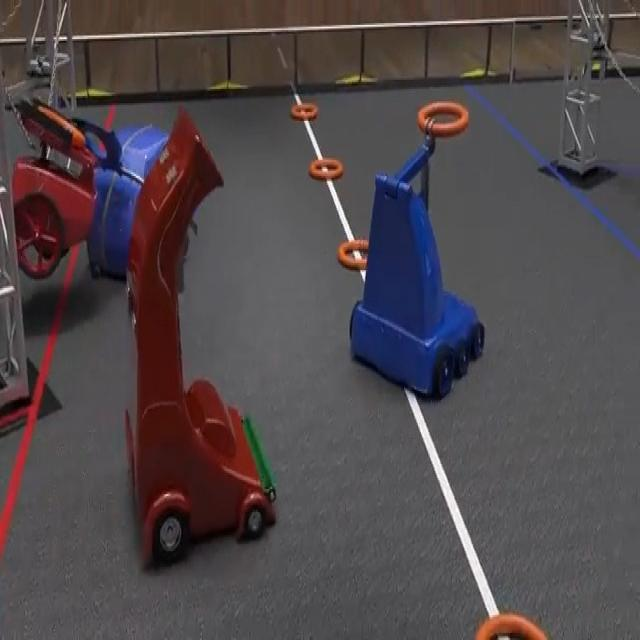notes: (414, 102, 470, 139), (473, 614, 550, 640), (337, 240, 369, 272), (309, 158, 346, 180), (291, 101, 321, 120)
